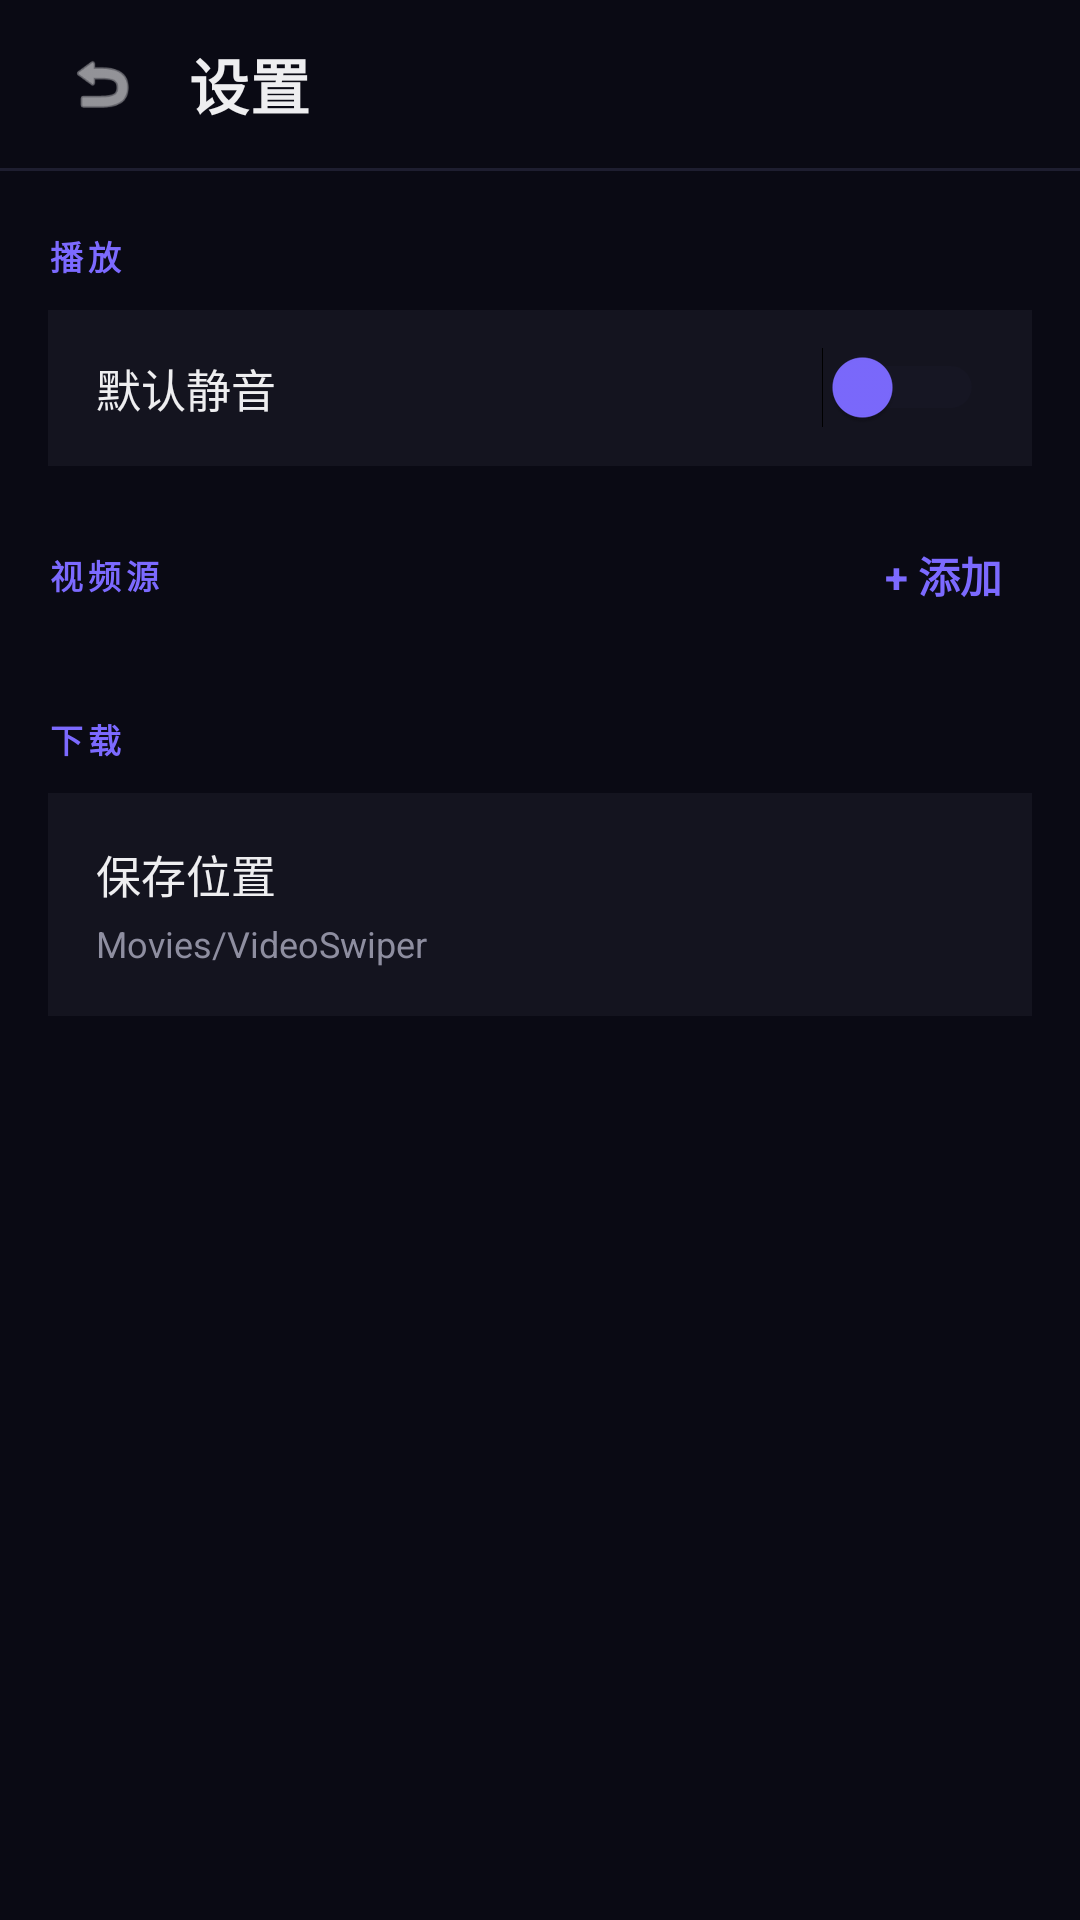

Named icons in this screenshot (1080*1920) and their bounding boxes, {"left": x1, "top": y1, "right": x2, "bottom": y2}:
revert: {"left": 77, "top": 61, "right": 129, "bottom": 108}
